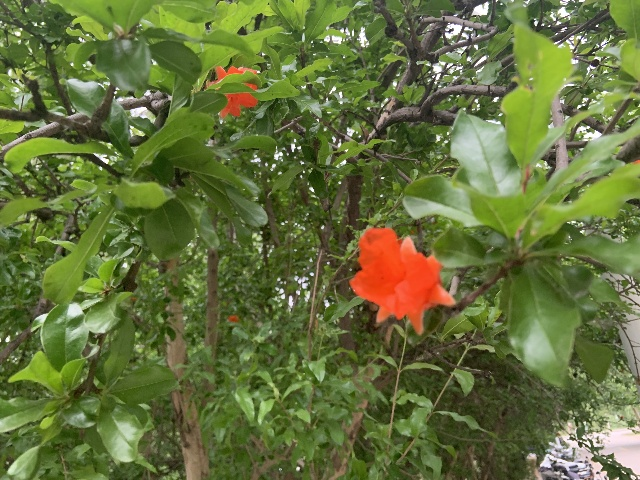flower: (349, 227, 455, 334), (204, 65, 259, 118)
